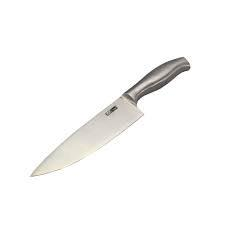knives: (27, 35, 200, 181)
